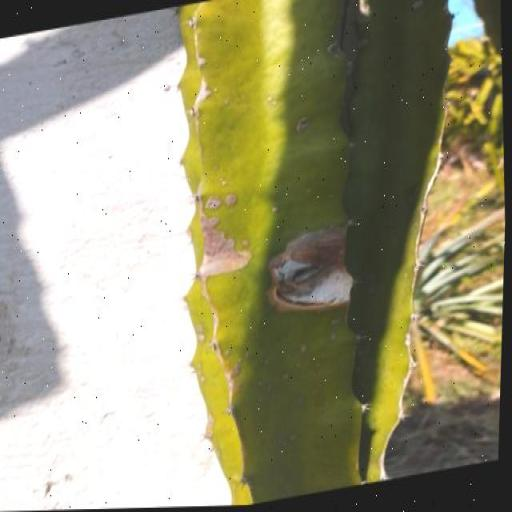stemcanker: (293, 114, 314, 134), (224, 191, 240, 211), (240, 234, 251, 252), (268, 203, 282, 215)
